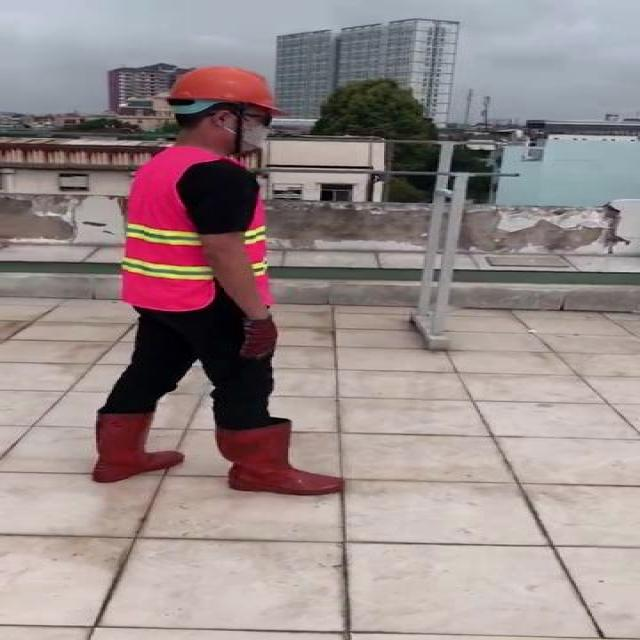boots: (213, 421, 347, 495), (90, 414, 186, 484)
face_mask: (226, 110, 279, 150)
hand_glove: (235, 316, 279, 361)
head_helmet: (163, 62, 284, 108)
person: (81, 64, 351, 504)
vest: (121, 149, 275, 310)
